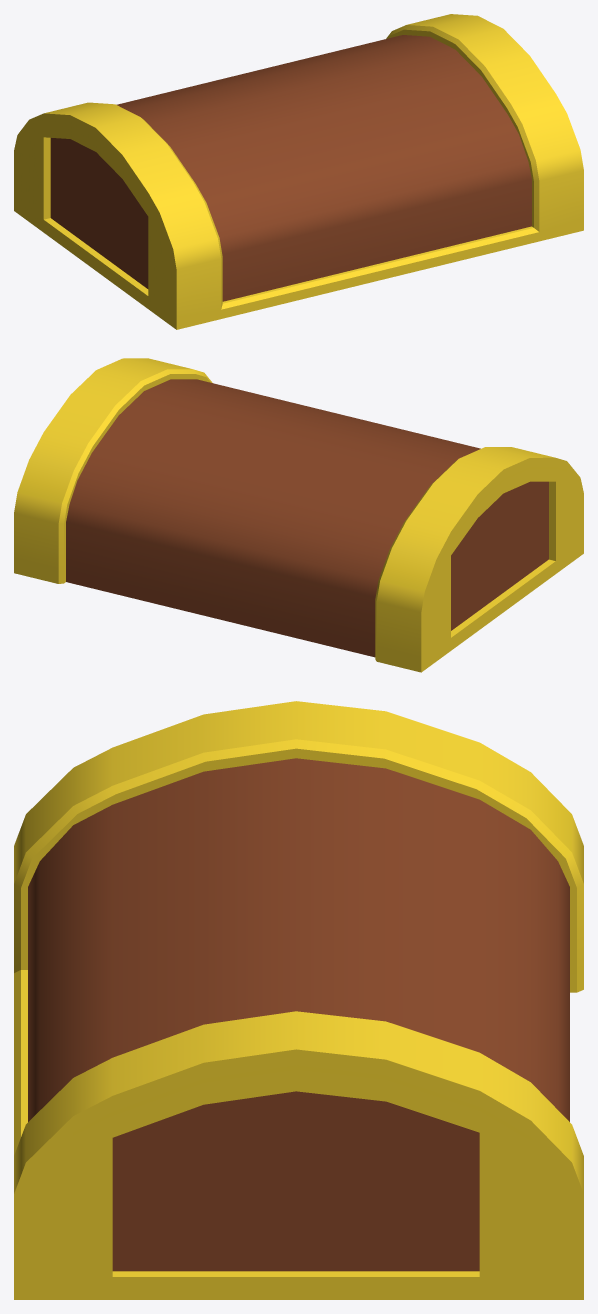
File: Chest_up.fbx
3 renders of one model, top to bottom at view 1: azimuth 30°, elevation 25°; view 2: azimuth 150°, elevation 25°; view 3: azimuth 270°, elevation 25°, orthographic. The views are drawn at different scales.
Parts seen in each view (by area): view 1: Chest_up; view 2: Chest_up; view 3: Chest_up.
Boxes of the visible parts, box(x1,y1,x2,y2) form: Chest_up: box(14, 14, 583, 329); Chest_up: box(14, 358, 583, 672); Chest_up: box(14, 701, 583, 1299).
Size of the model in its own units: 97.83 by 32.8 by 67.65.
